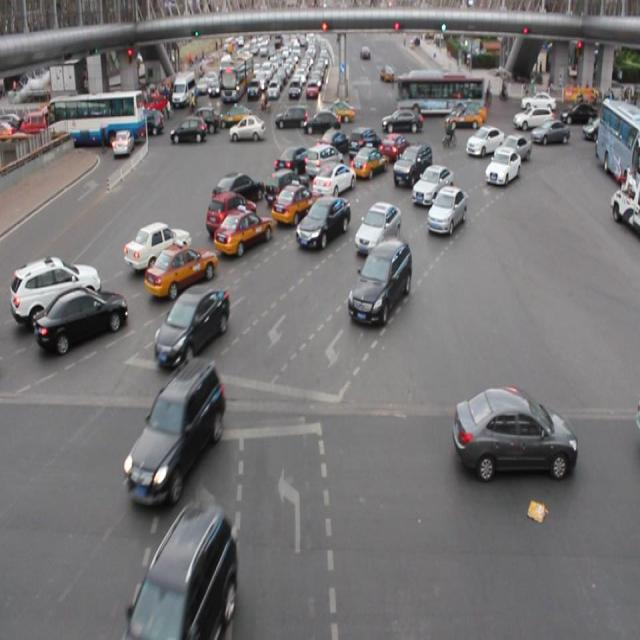car: (127, 506, 237, 640), (125, 359, 220, 506), (452, 385, 574, 478), (35, 286, 128, 352), (156, 284, 228, 364), (12, 256, 102, 320), (349, 240, 411, 322), (146, 244, 216, 299), (124, 220, 190, 268), (294, 196, 350, 252), (215, 203, 272, 256), (205, 190, 257, 234), (271, 181, 318, 227), (356, 201, 399, 249), (212, 172, 264, 208), (426, 188, 466, 234), (310, 159, 354, 200), (263, 170, 307, 210), (412, 163, 451, 207), (394, 142, 432, 186), (274, 145, 316, 180), (350, 144, 386, 181), (483, 146, 518, 184), (464, 125, 504, 156), (378, 131, 411, 163), (496, 134, 529, 165), (346, 129, 379, 155), (317, 126, 348, 153)
truck: (304, 144, 345, 182)
